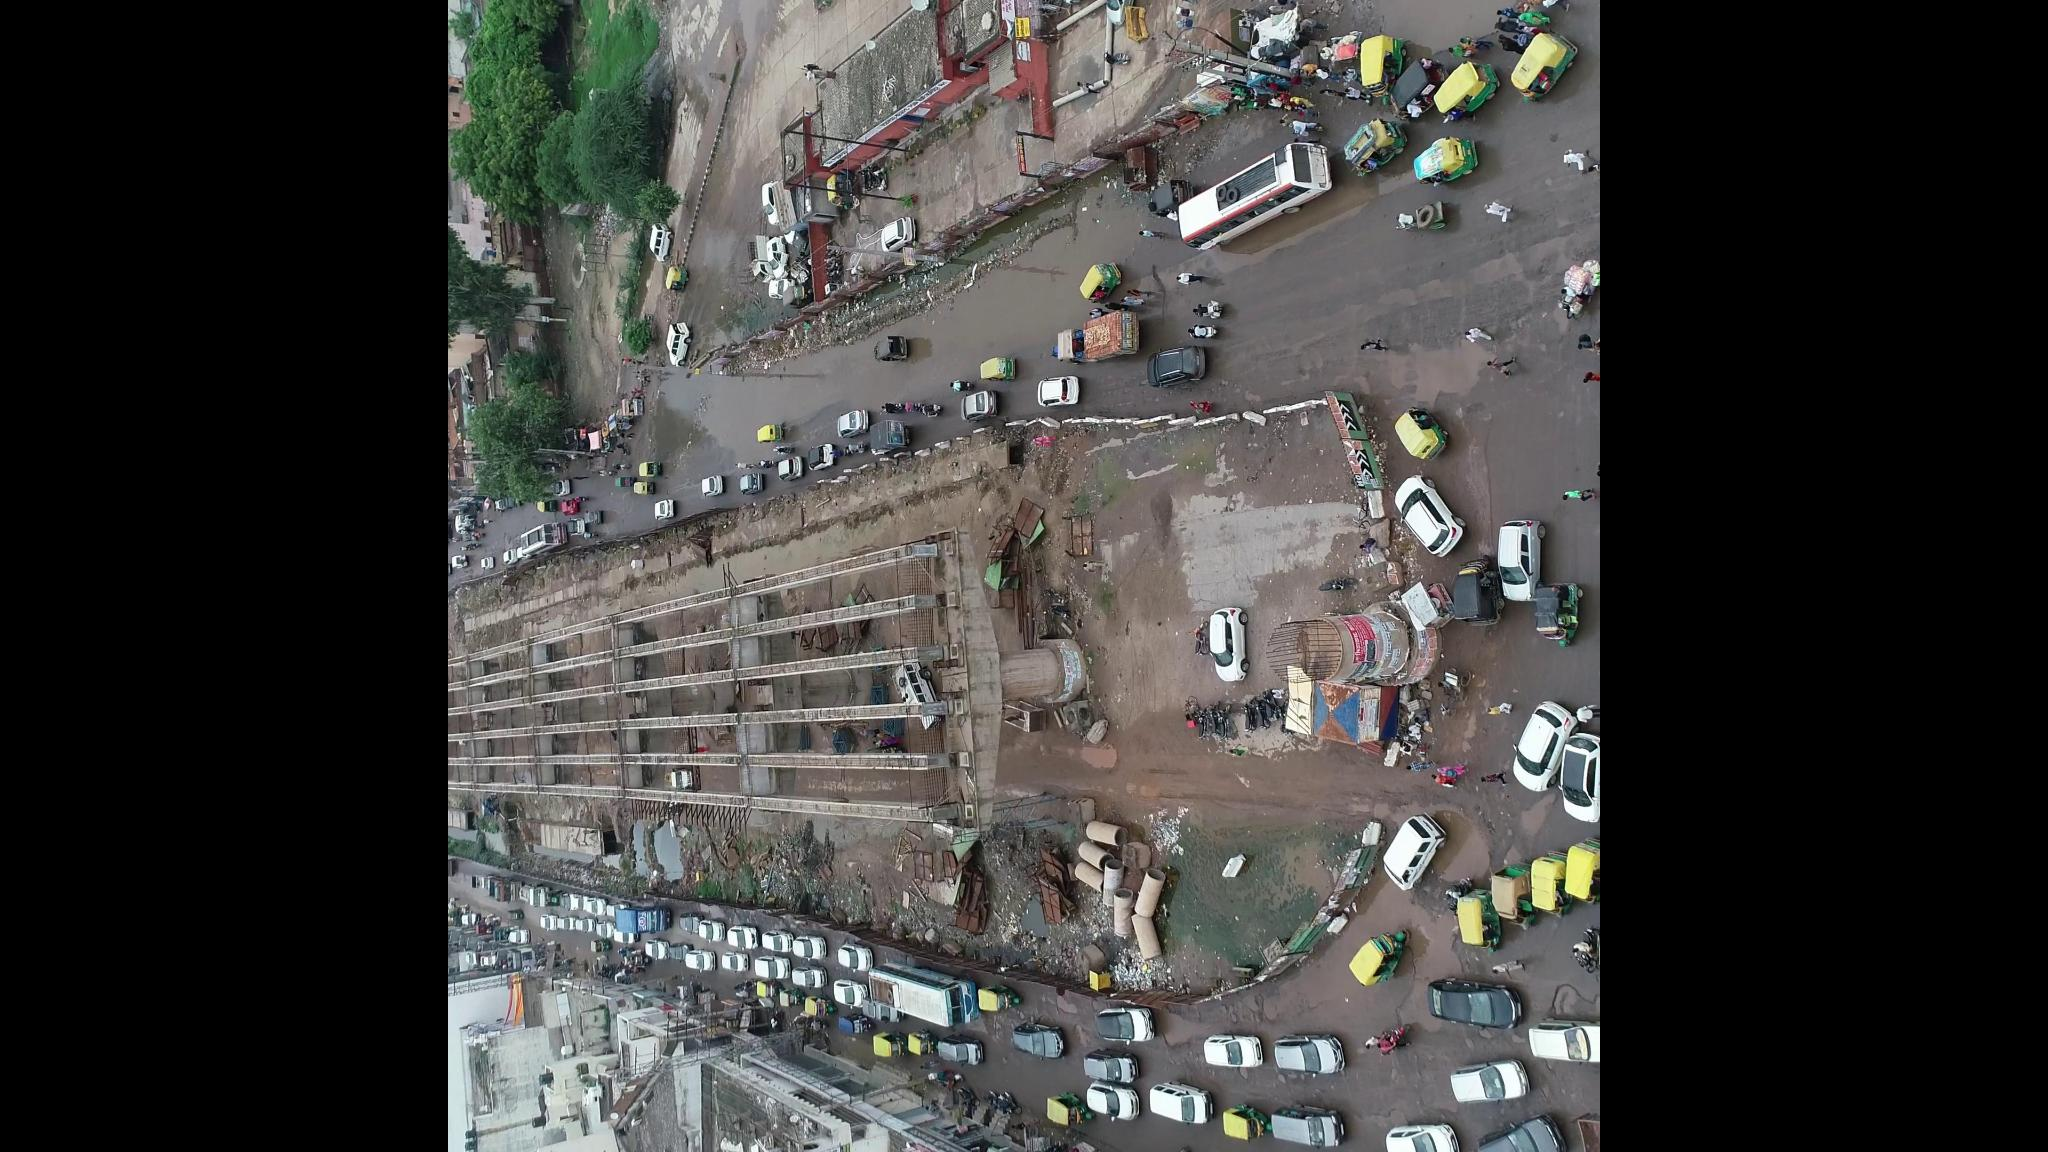Waterlogging: (941, 196, 1094, 352), (650, 359, 803, 452), (1101, 377, 1153, 409)
